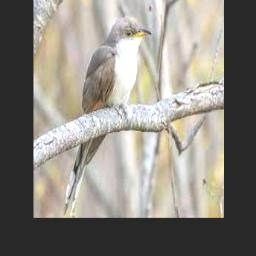Cuckoo: (63, 16, 153, 215)
